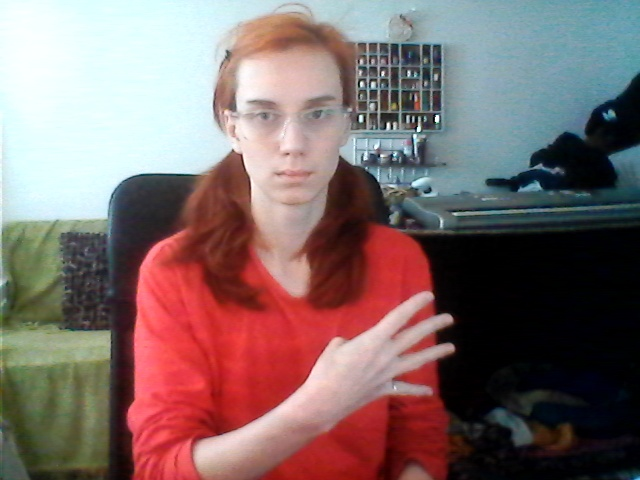styri: (303, 289, 460, 414)
